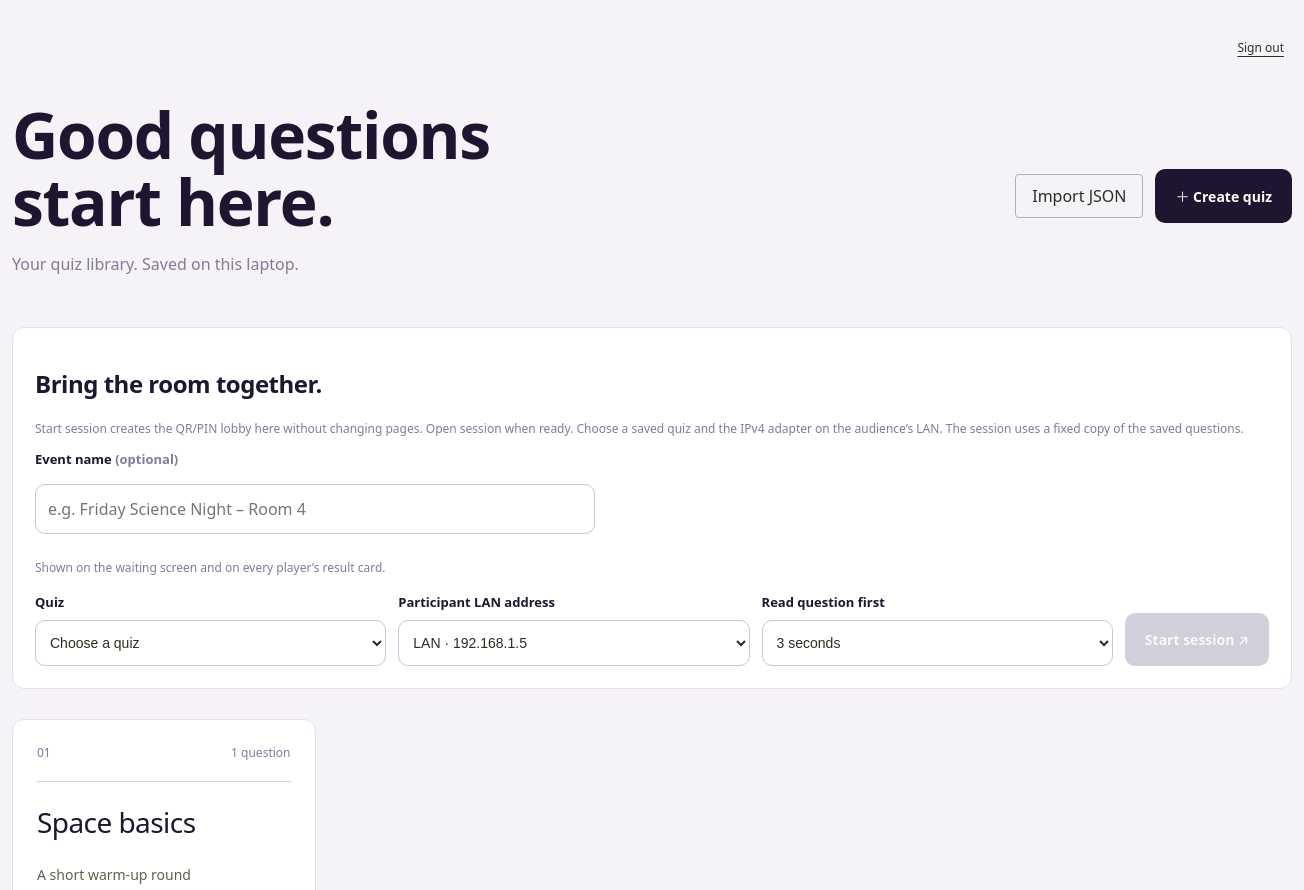
Test: starts a waiting session without redirecting and provides a separate lobby link
Select "Space basics" in the dropdown labelled "Quiz": {"x": 211, "y": 643} [35,620,386,666]
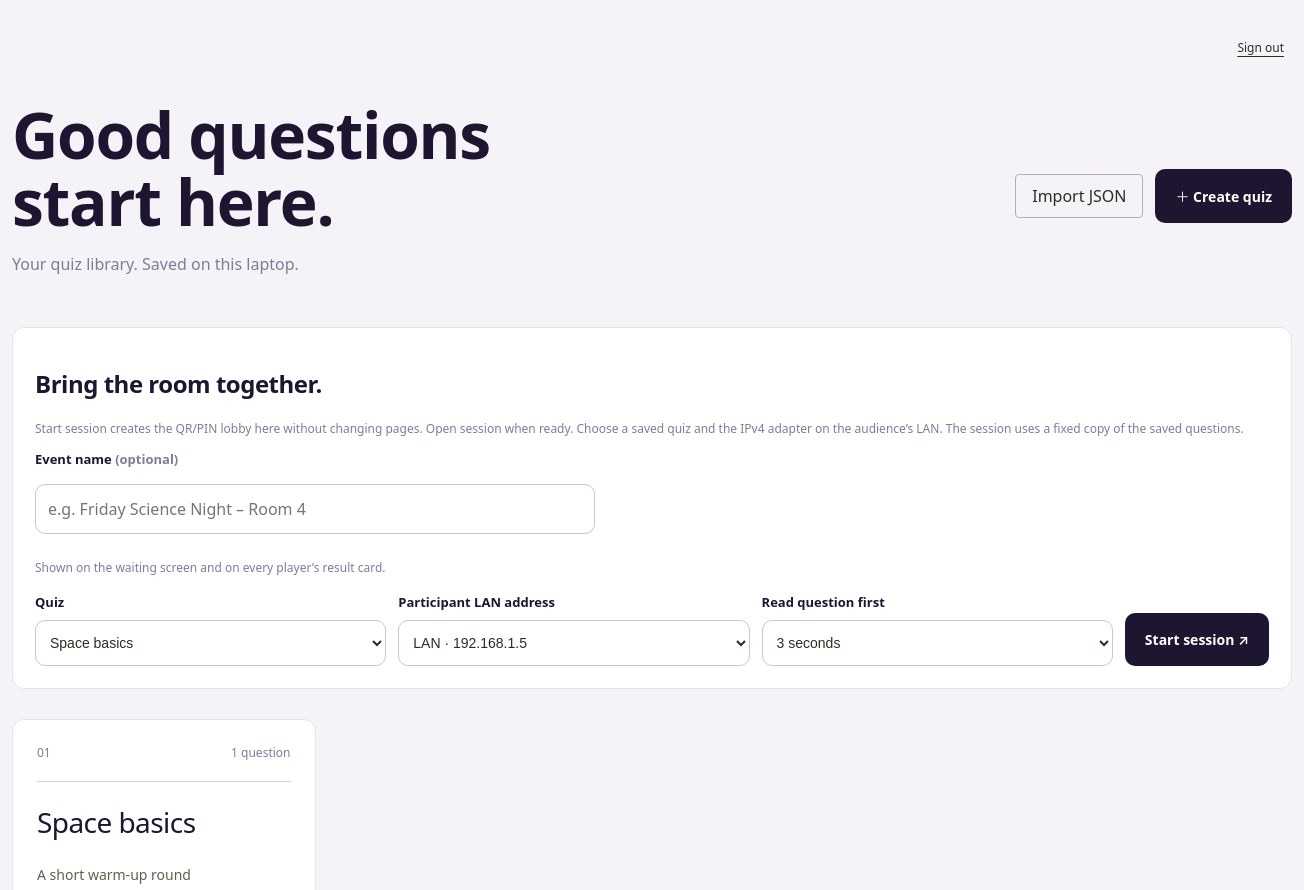
Click the button "Start session ↗": {"x": 1197, "y": 640} [1125,613,1269,666]
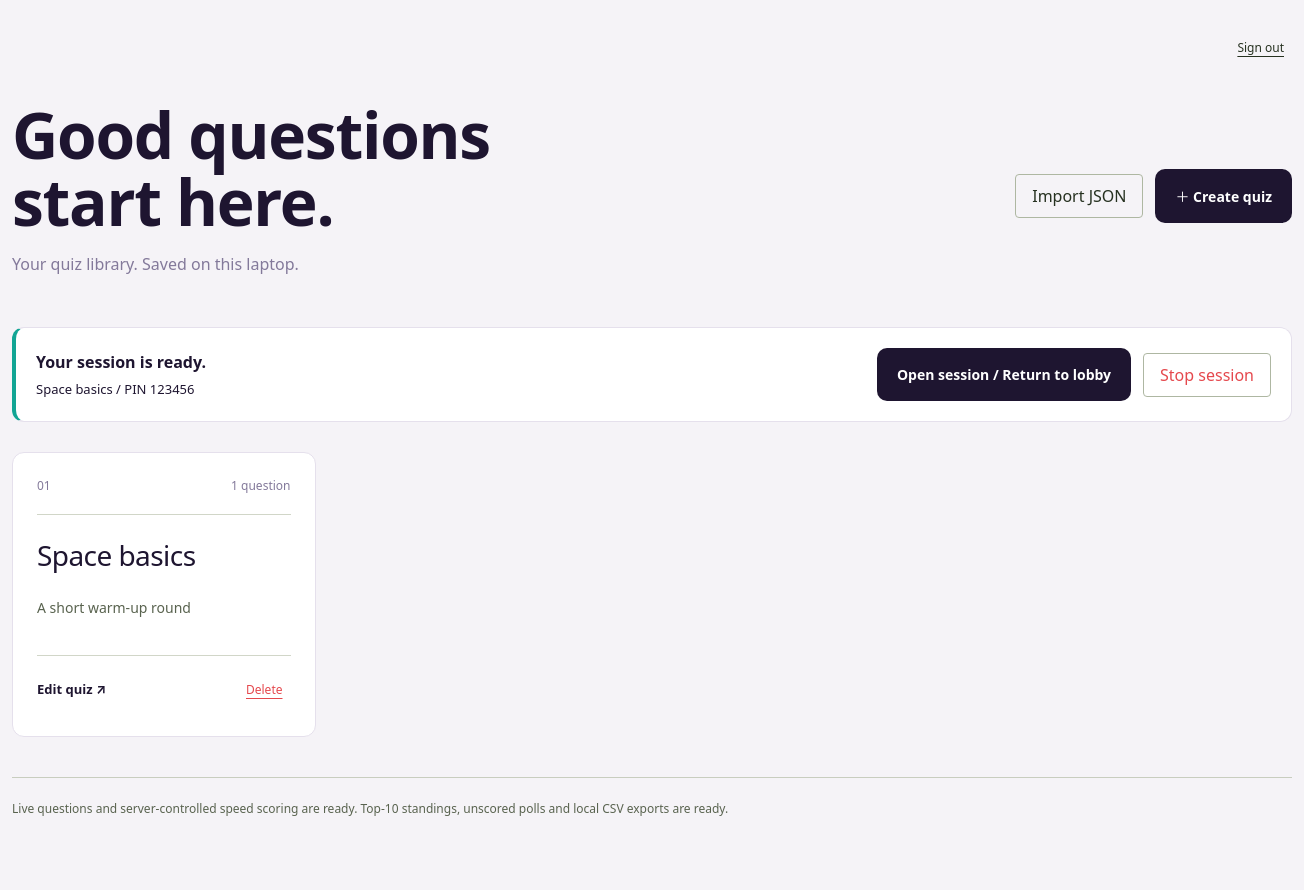
Result: the text "PIN 123456" is shown at [36,380,206,398]
